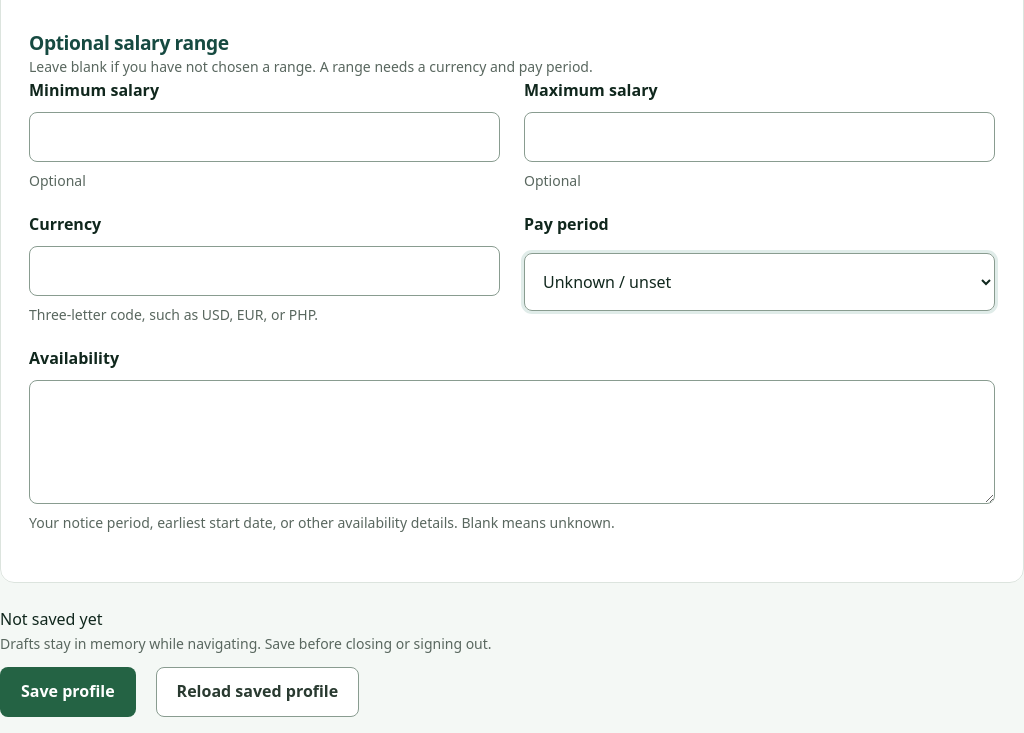
profile persistence UI with mocked Supabase › validates before saving and exposes field errors
(page scrolled)
Click the button "Save profile" at {"x": 68, "y": 692}, box [0,668,136,717]
(page scrolled)
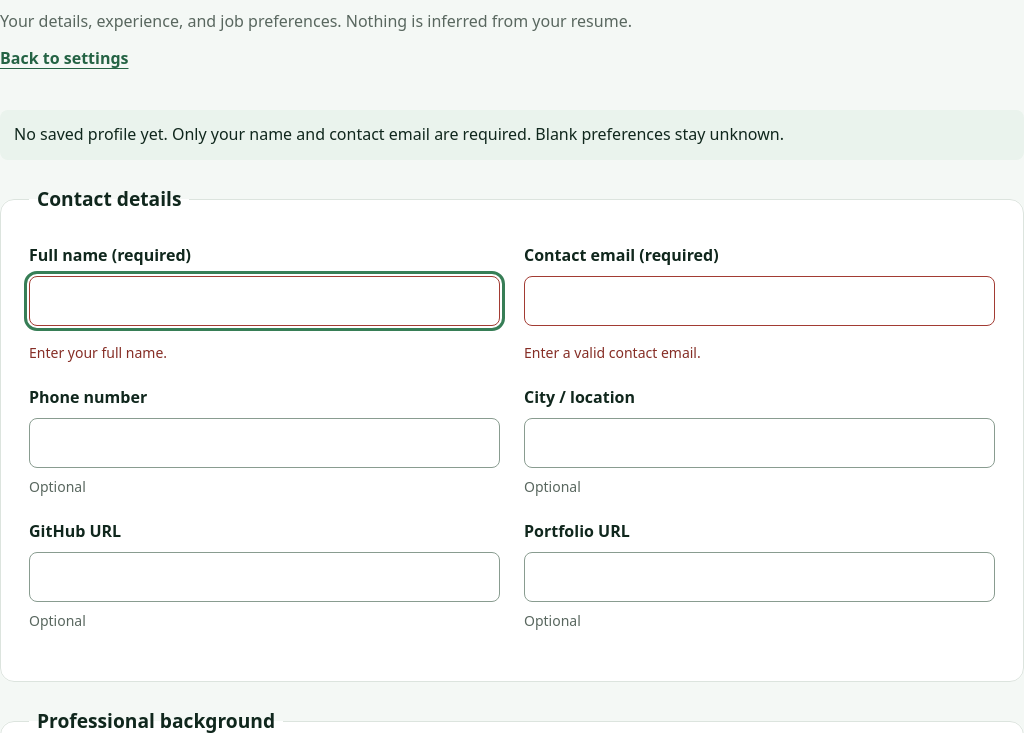
Check: the text "Enter your full name." is shown, box [29,343,167,362]
